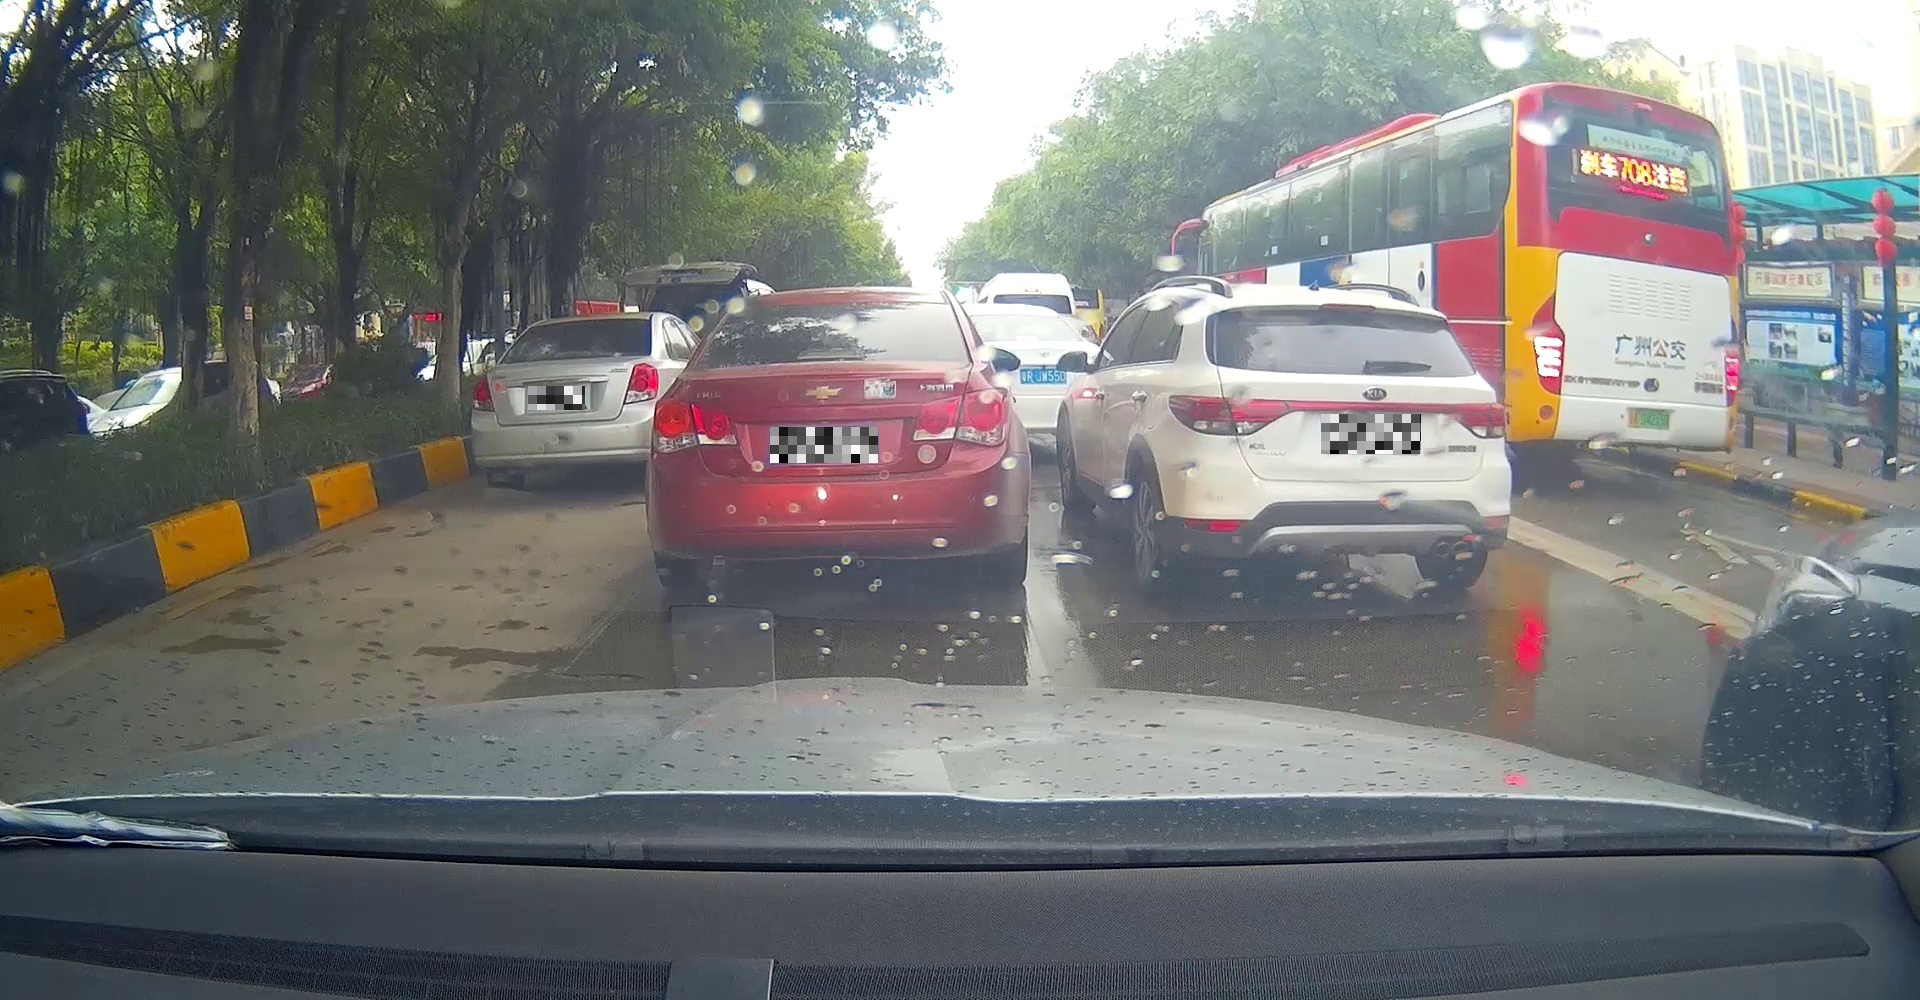L_light: (1167, 393, 1290, 437), (651, 397, 739, 454), (1531, 291, 1564, 396)
R_light: (910, 387, 1010, 447), (1449, 402, 1506, 439), (1724, 313, 1738, 409)
T_light: (1619, 185, 1669, 201), (796, 350, 865, 360), (1318, 303, 1377, 312)
day-brake: (1514, 81, 1738, 457)
day-no: (644, 286, 1031, 594), (1159, 283, 1512, 595)
plate_1: (528, 386, 585, 410)
plate_2: (770, 426, 877, 463)
plate_3: (1321, 414, 1421, 454)
